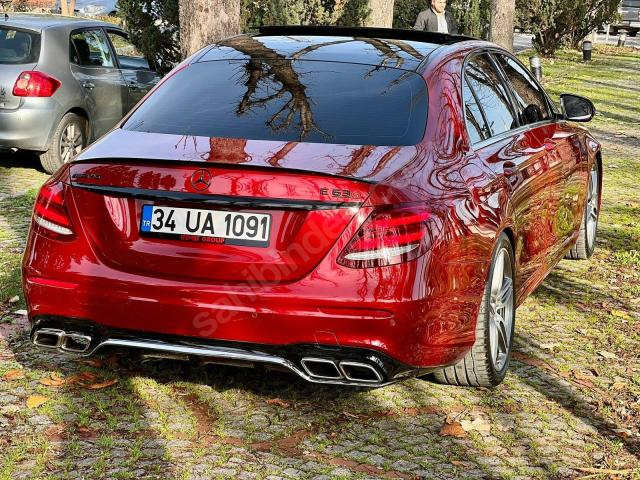plaka: (140, 206, 271, 247)
